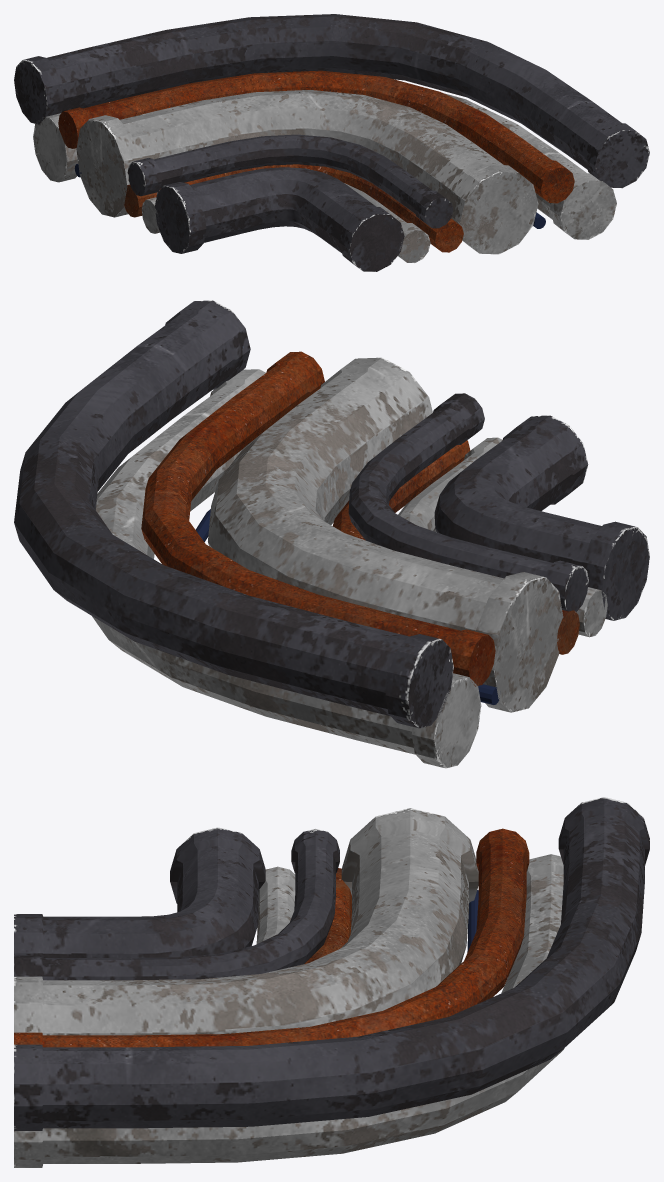
File: Left Turn.fbx
The picture shows the model from 3 angles, top to bottom: view 1: azimuth 30°, elevation 25°; view 2: azimuth 150°, elevation 25°; view 3: azimuth 270°, elevation 25°; orthographic projection. The views are drawn at different scales.
Parts seen in each view (by area): view 1: Ceiling_Turn_Left; view 2: Ceiling_Turn_Left; view 3: Ceiling_Turn_Left.
Boxes of the visible parts, x1,y1,x2,y2 form: Ceiling_Turn_Left: (14,14,649,271); Ceiling_Turn_Left: (14,300,649,768); Ceiling_Turn_Left: (14,797,649,1167).
Bounding box in the file's own units: 3.24 × 0.8007 × 3.26.
